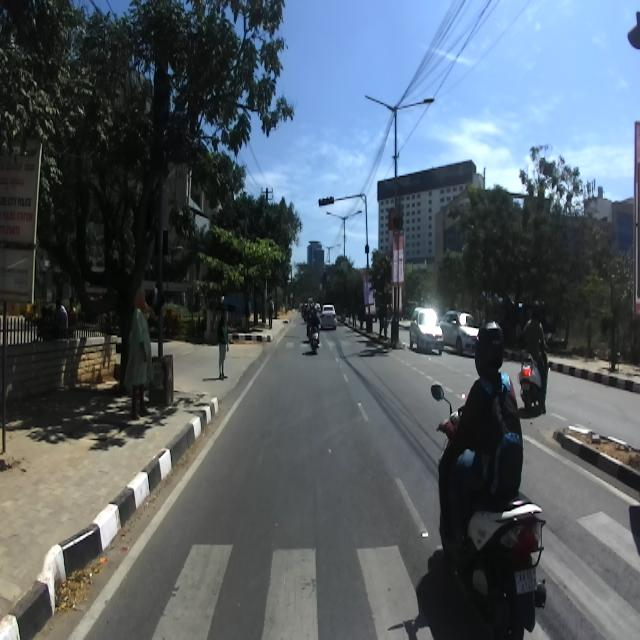motorcycle ahead at: (457, 499, 546, 640)
person ahead at: (122, 281, 156, 420), (216, 294, 232, 384)
